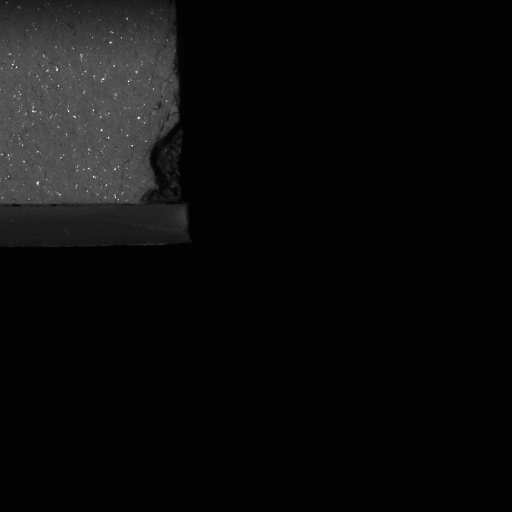bengque: (134, 124, 191, 209)
